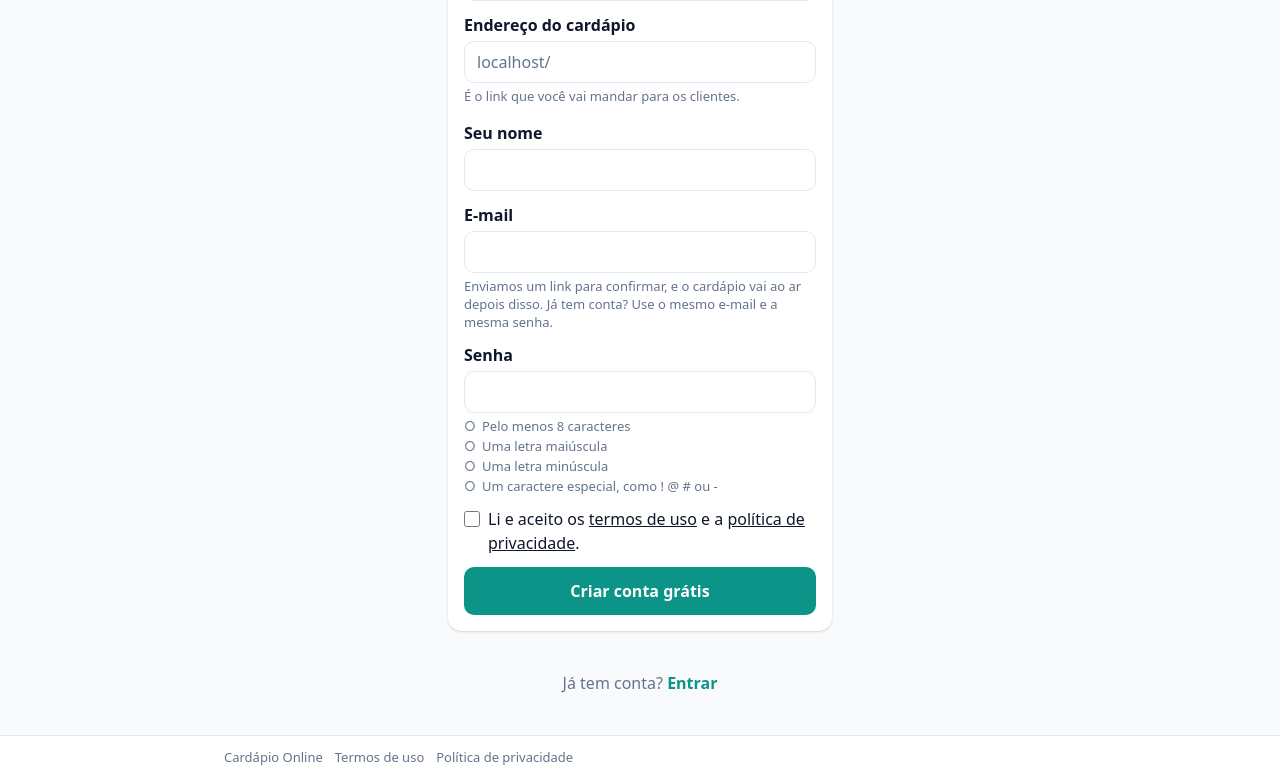
cadastro › enviar vazio aponta tudo o que falta, inclusive o aceite, e nada é enviado
The width and height of the screenshot is (1280, 778).
(page scrolled)
Step 1. Click the button "Criar conta grátis" → (640, 591), box [464, 567, 816, 615]
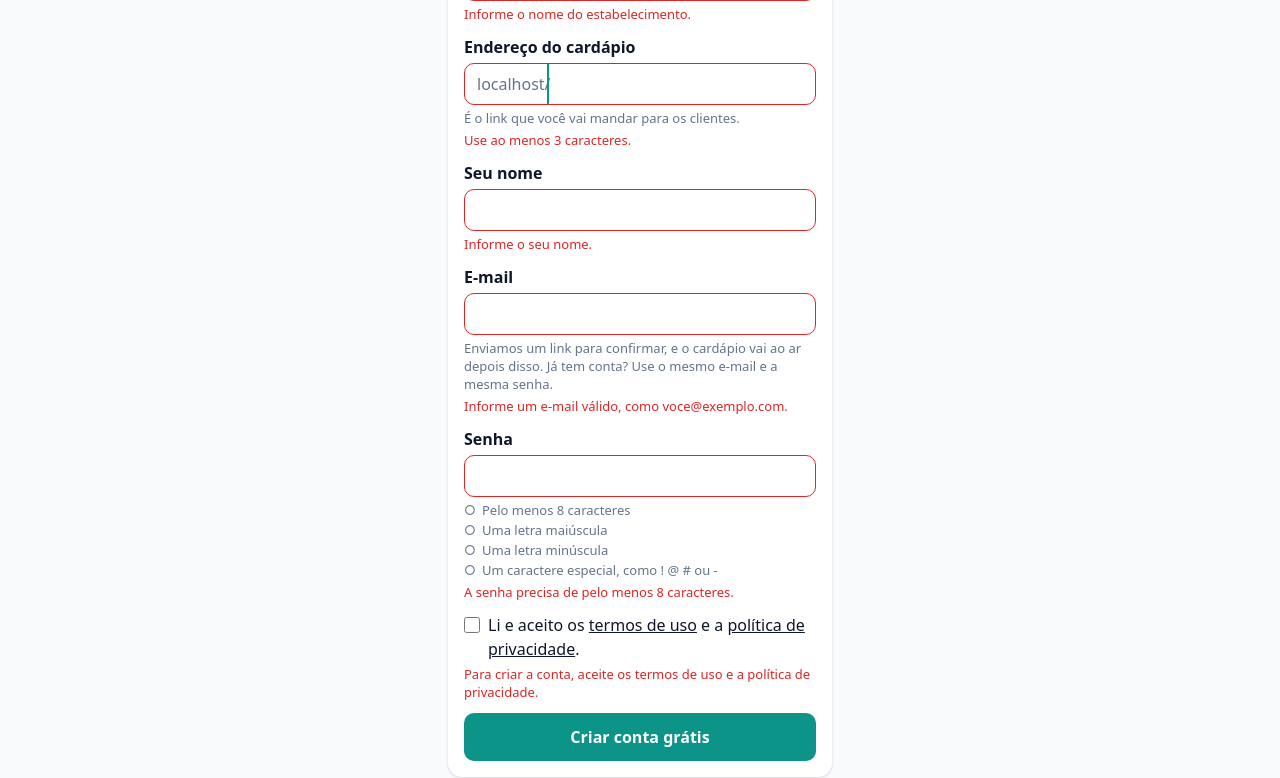
Check: the text "Informe o nome do estabelecimento." is shown, box [464, 5, 691, 23]
Check: the text "Informe o seu nome." is shown, box [464, 235, 592, 253]
Check: the text "Informe um e-mail válido, como voce@exemplo.com." is shown, box [464, 397, 816, 415]
